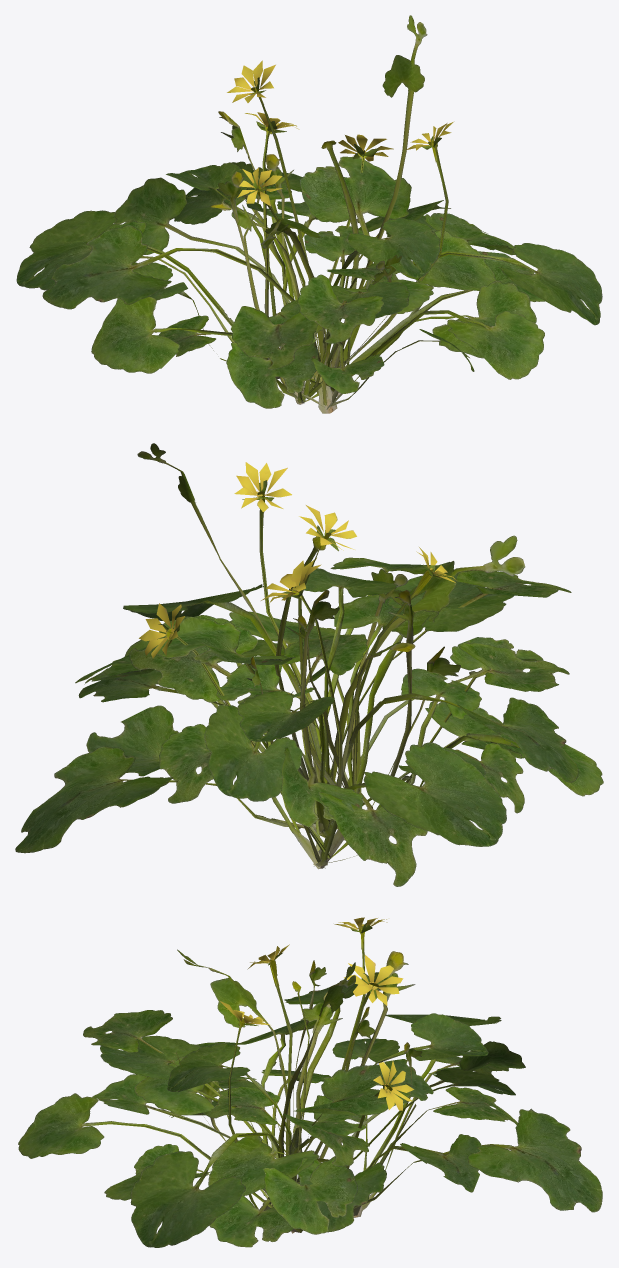
The model's file is ficaire.glb.
The picture shows the model from 3 angles, top to bottom: view 1: azimuth 30°, elevation 25°; view 2: azimuth 150°, elevation 25°; view 3: azimuth 270°, elevation 25°; orthographic projection. The views are drawn at different scales.
Visible parts, largest first — view 1: celandine_01_a_LOD0, celandine_01_b_LOD0, celandine_01_c_LOD0, celandine_01_d_LOD0, celandine_01_e_LOD0; view 2: celandine_01_b_LOD0, celandine_01_c_LOD0, celandine_01_d_LOD0, celandine_01_a_LOD0, celandine_01_e_LOD0; view 3: celandine_01_b_LOD0, celandine_01_a_LOD0, celandine_01_c_LOD0, celandine_01_d_LOD0, celandine_01_e_LOD0.
Part boxes in pixels (<box>): celandine_01_a_LOD0: <box>42,15,602,393</box>; celandine_01_b_LOD0: <box>16,140,544,408</box>; celandine_01_c_LOD0: <box>91,60,544,404</box>; celandine_01_d_LOD0: <box>101,112,496,378</box>; celandine_01_e_LOD0: <box>158,154,536,413</box>; celandine_01_b_LOD0: <box>15,536,571,853</box>; celandine_01_c_LOD0: <box>86,462,603,840</box>; celandine_01_d_LOD0: <box>139,558,513,886</box>; celandine_01_a_LOD0: <box>78,443,578,831</box>; celandine_01_e_LOD0: <box>129,568,524,813</box>; celandine_01_b_LOD0: <box>18,981,602,1234</box>; celandine_01_a_LOD0: <box>92,949,525,1247</box>; celandine_01_c_LOD0: <box>134,917,488,1247</box>; celandine_01_d_LOD0: <box>100,954,517,1217</box>; celandine_01_e_LOD0: <box>104,1007,515,1210</box>.
Bounding box in the file's own units: 0.2757 × 0.1859 × 0.3067.
Materials: 1 (1 with a texture image).
